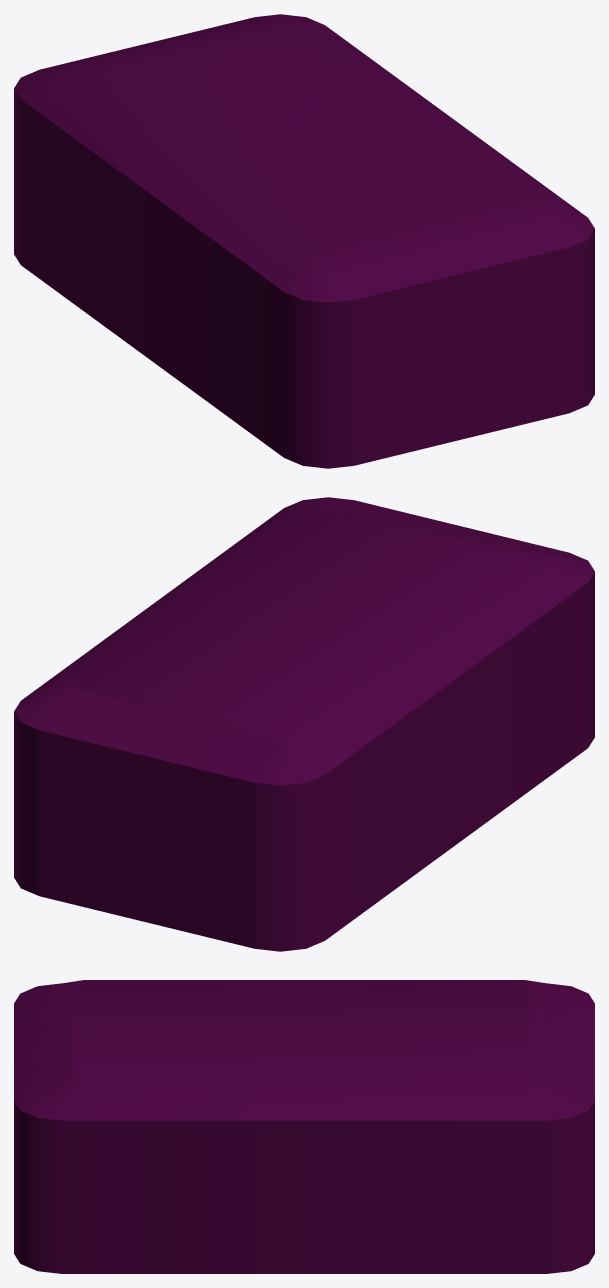
File: Workshop_Cont6.fbx
3 renders of one model, top to bottom at view 1: azimuth 30°, elevation 25°; view 2: azimuth 150°, elevation 25°; view 3: azimuth 270°, elevation 25°, orthographic. The views are drawn at different scales.
Visible parts, largest first — view 1: Workshop_Cont6; view 2: Workshop_Cont6; view 3: Workshop_Cont6.
Boxes of the visible parts, x1,y1,x2,y2 form: Workshop_Cont6: (14, 14, 594, 468); Workshop_Cont6: (14, 497, 594, 951); Workshop_Cont6: (14, 980, 594, 1273).
Bounding box in the file's own units: 34.32 × 19.99 × 61.5.
